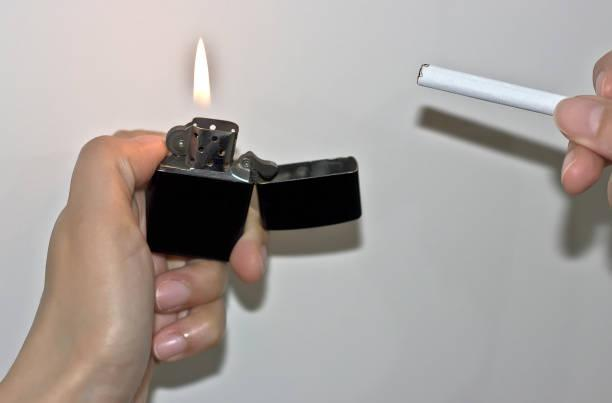Fire: (189, 36, 215, 112)
